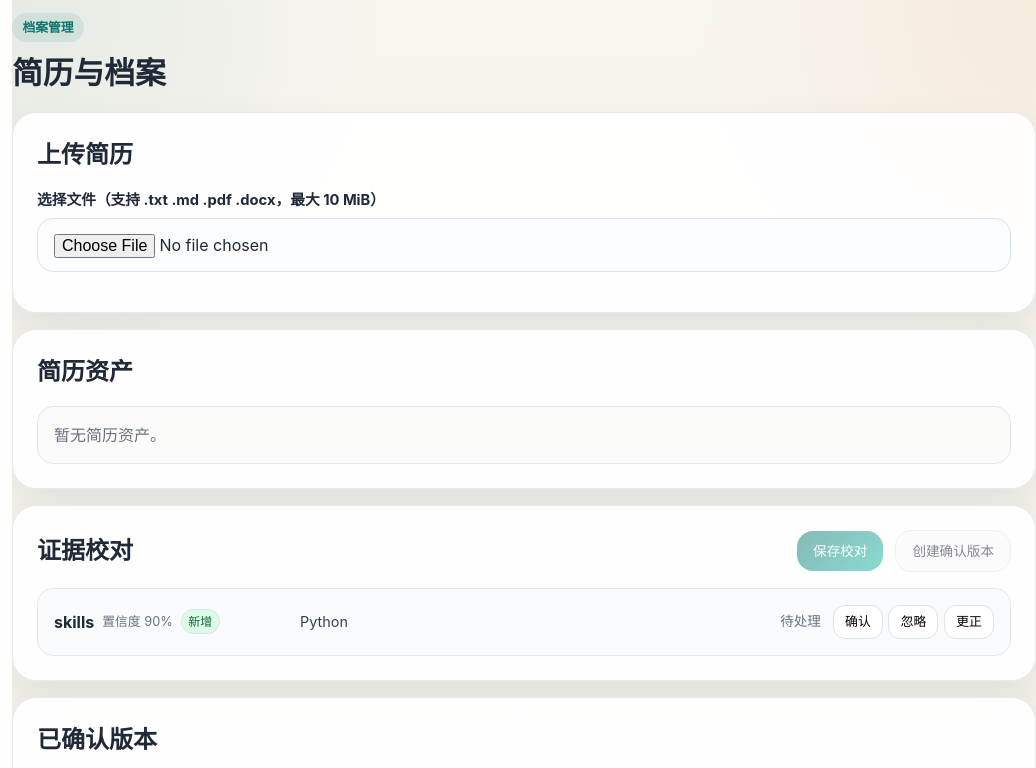
Test case: ProfileWorkspace › reloads on stale profile version instead of overwriting
This screenshot has width=1036, height=768.
Click the button with test id "decision-confirm-evidence-1": (858, 622) top-left (833, 605), bottom-right (883, 639)
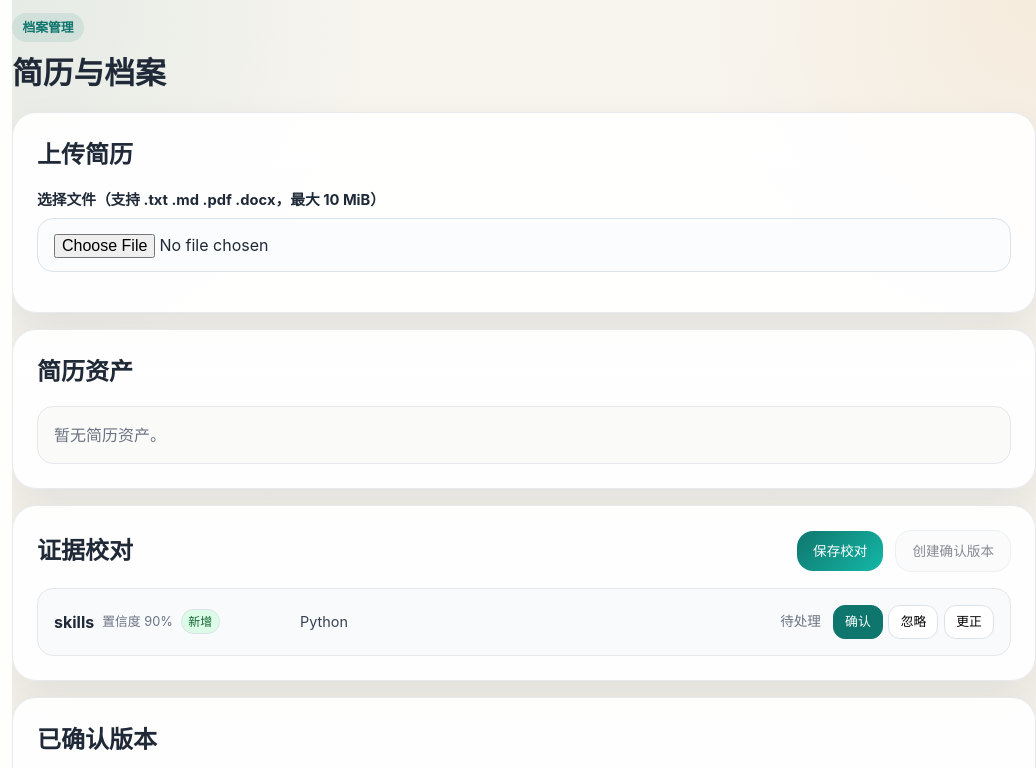
Click the button with test id "save-decisions": (840, 551) top-left (797, 531), bottom-right (884, 571)
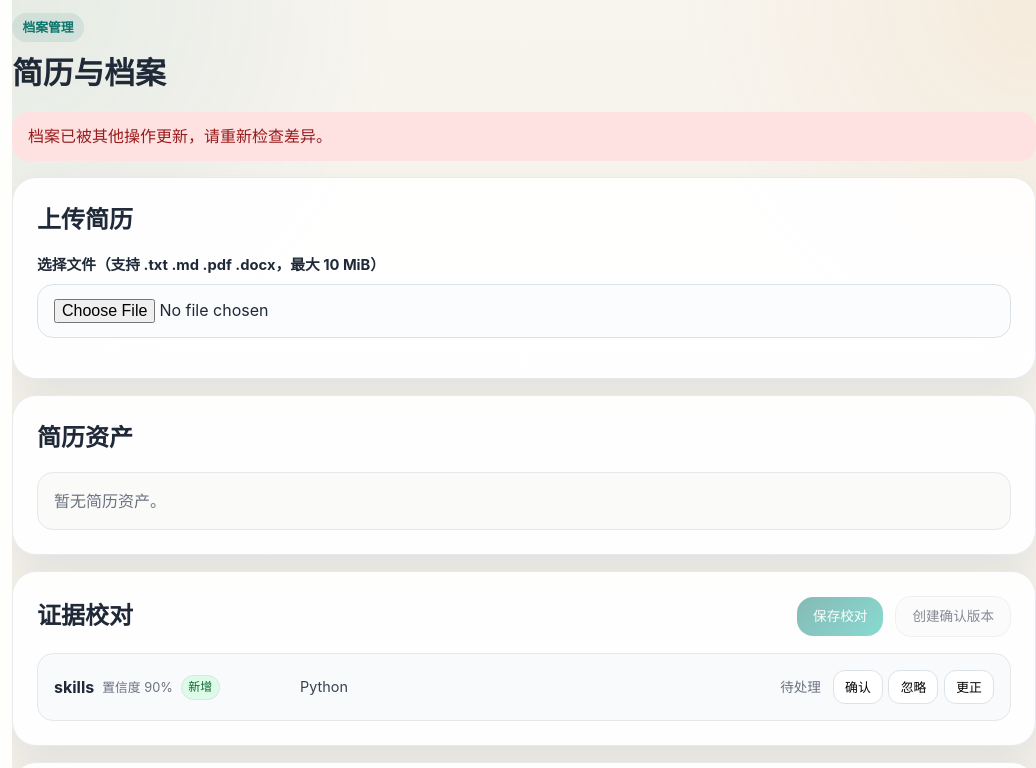
Expected: the text "档案已被其他操作更新，请重新检查差异。" is shown, top-left (12, 112), bottom-right (1035, 161)
